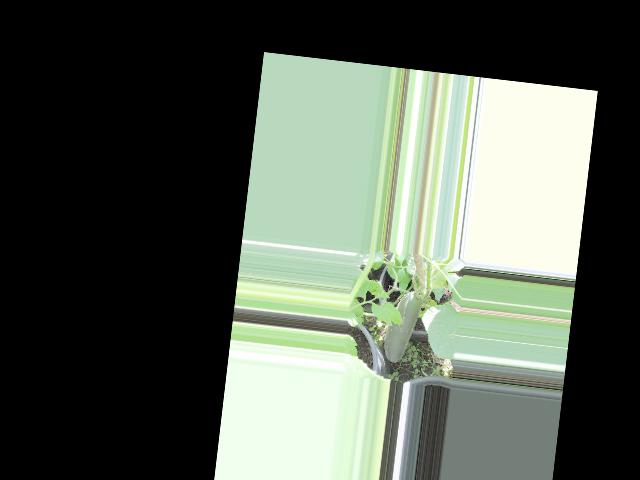cucumber: (382, 288, 423, 364)
